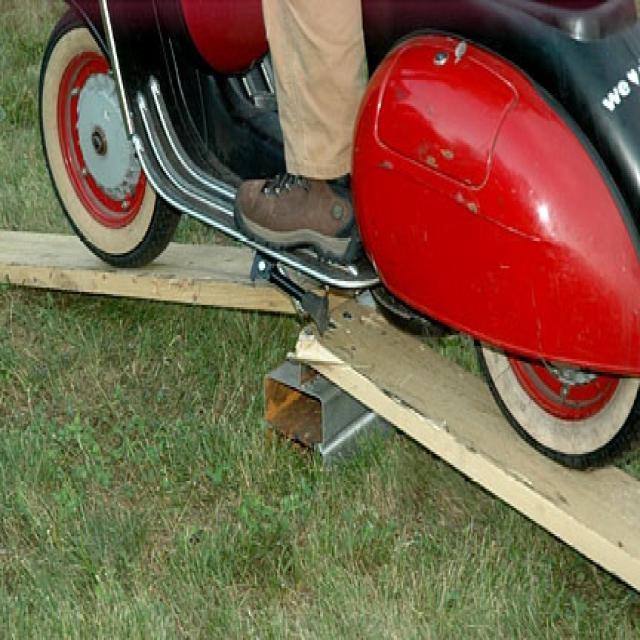motorbike: (36, 0, 638, 469)
